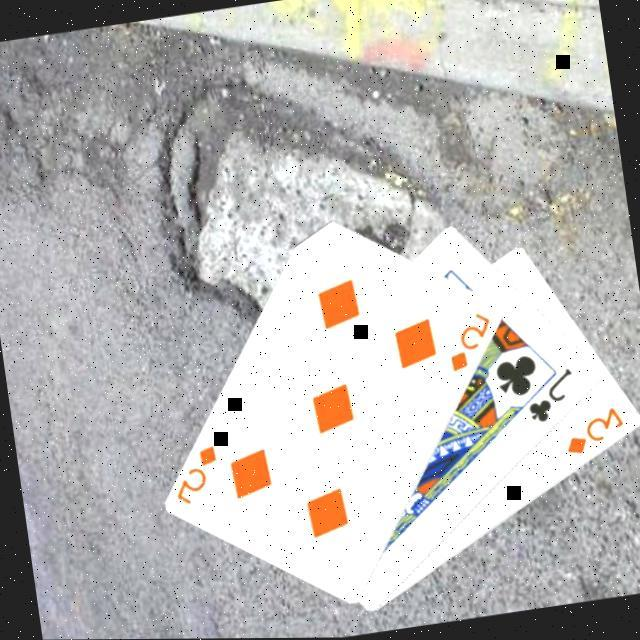3D: (555, 402, 629, 460)
5D: (164, 440, 226, 510), (439, 307, 499, 376)
JC: (518, 364, 580, 428)
